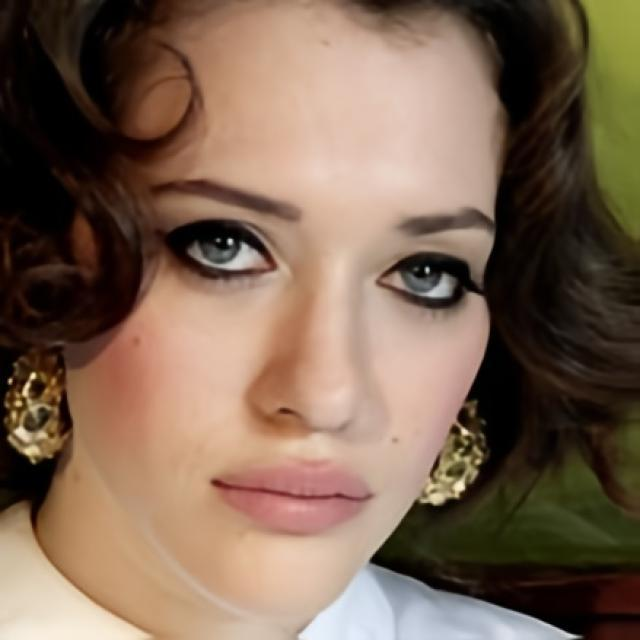neutral: (64, 0, 508, 624)
